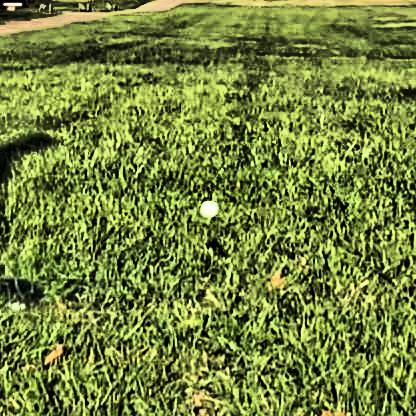golfball: (198, 195, 215, 214)
